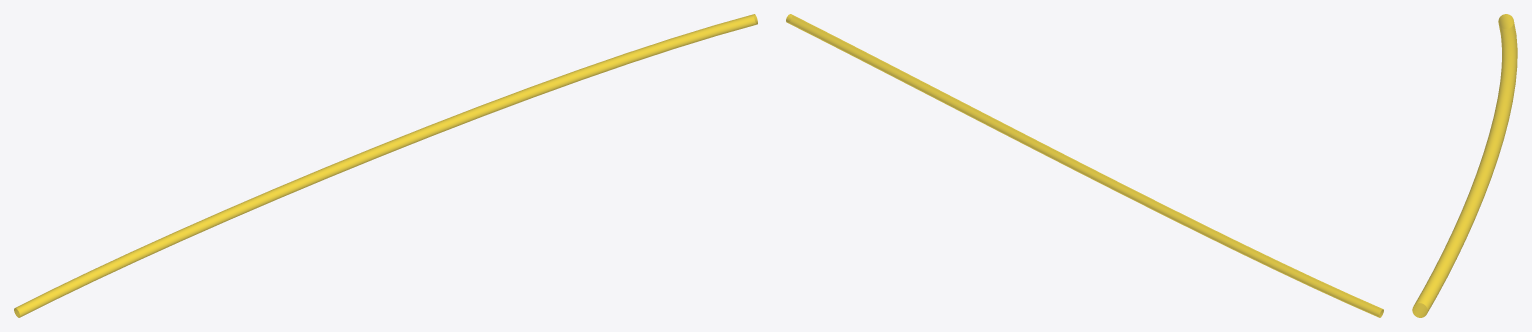
Rendered from Event_84804159_track_88.fbx.
3 views of the same model, side by side, from view 1: azimuth 30°, elevation 25°; view 2: azimuth 150°, elevation 25°; view 3: azimuth 270°, elevation 25° (orthographic). The views are drawn at different scales.
Visible parts, largest first — view 1: Model; view 2: Model; view 3: Model.
Boxes of the visible parts, left/top/right/bottom form: Model: left=14, top=14, right=757, bottom=317; Model: left=786, top=14, right=1383, bottom=317; Model: left=1412, top=14, right=1517, bottom=317.
Bounding box in the file's own units: 3 × 0.6152 × 0.2698.
